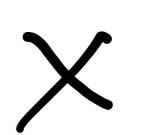mult: (7, 21, 123, 134)
